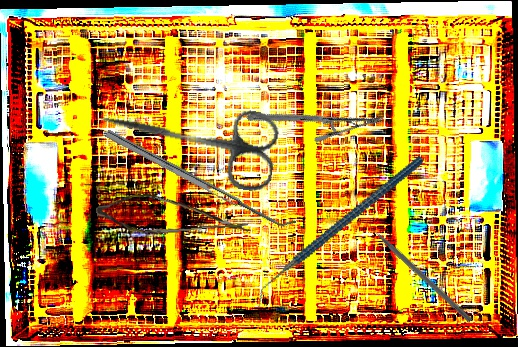Chopper: (228, 155, 451, 309), (363, 214, 479, 324)
Iris Scissors: (93, 82, 283, 195)
Micro Scissor: (95, 185, 251, 245)
Needle Holder: (245, 58, 386, 179)
Spatula Surgical: (104, 122, 298, 235)
